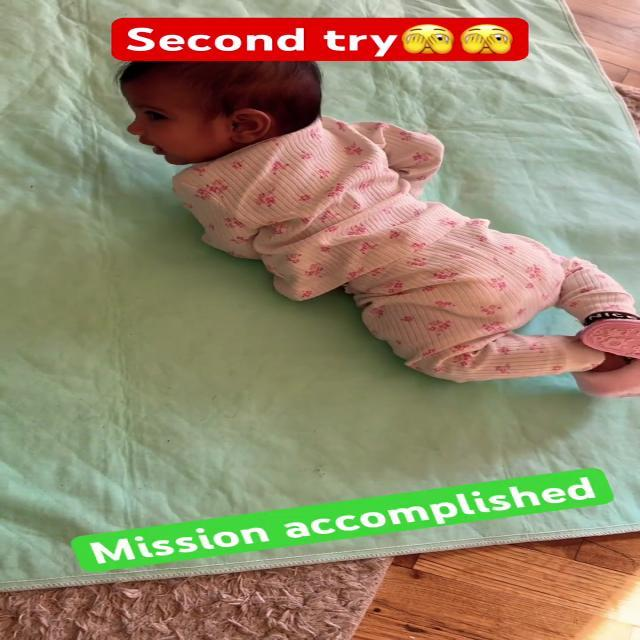baby: (112, 54, 640, 399)
